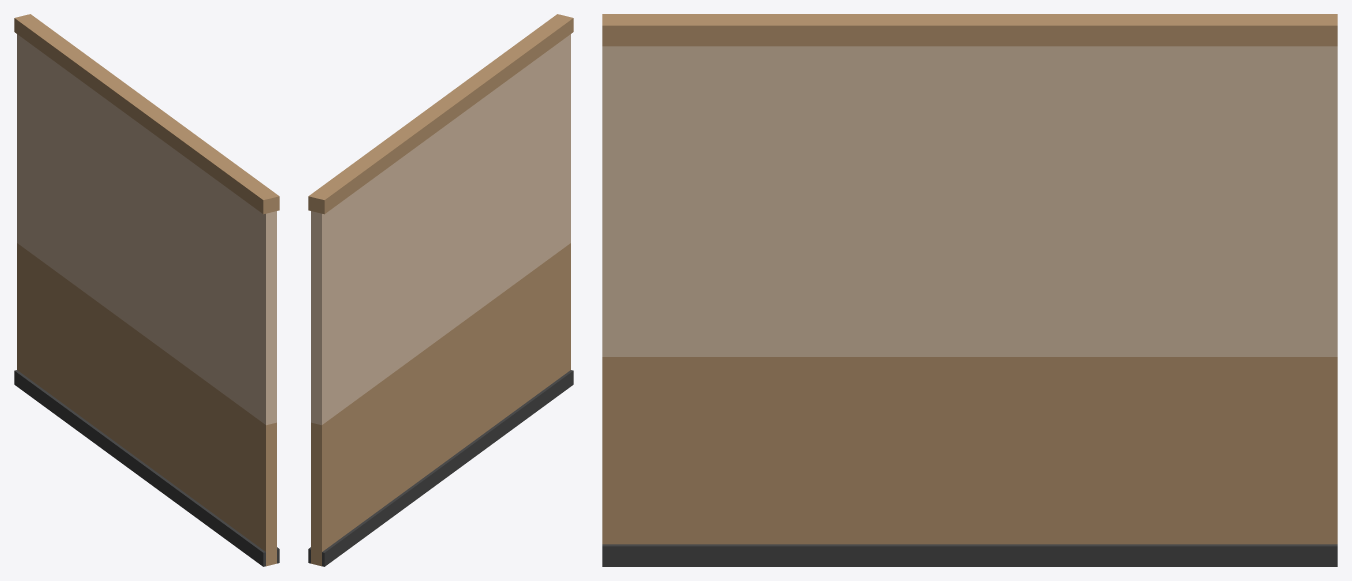
The model's file is wall_02_L.glb.
The picture shows the model from 3 angles, left to right: view 1: azimuth 30°, elevation 25°; view 2: azimuth 150°, elevation 25°; view 3: azimuth 270°, elevation 25°; orthographic projection. The views are drawn at different scales.
Visible parts, largest first — view 1: Untitled; view 2: Untitled; view 3: Untitled.
Boxes of the visible parts, x1=… form: Untitled: x1=14, y1=14, x2=279, y2=566; Untitled: x1=308, y1=14, x2=573, y2=566; Untitled: x1=602, y1=14, x2=1337, y2=566.
Size of the model in its own units: 0.18 by 3.9 by 4.8.
Materials: 1 (1 with a texture image).
